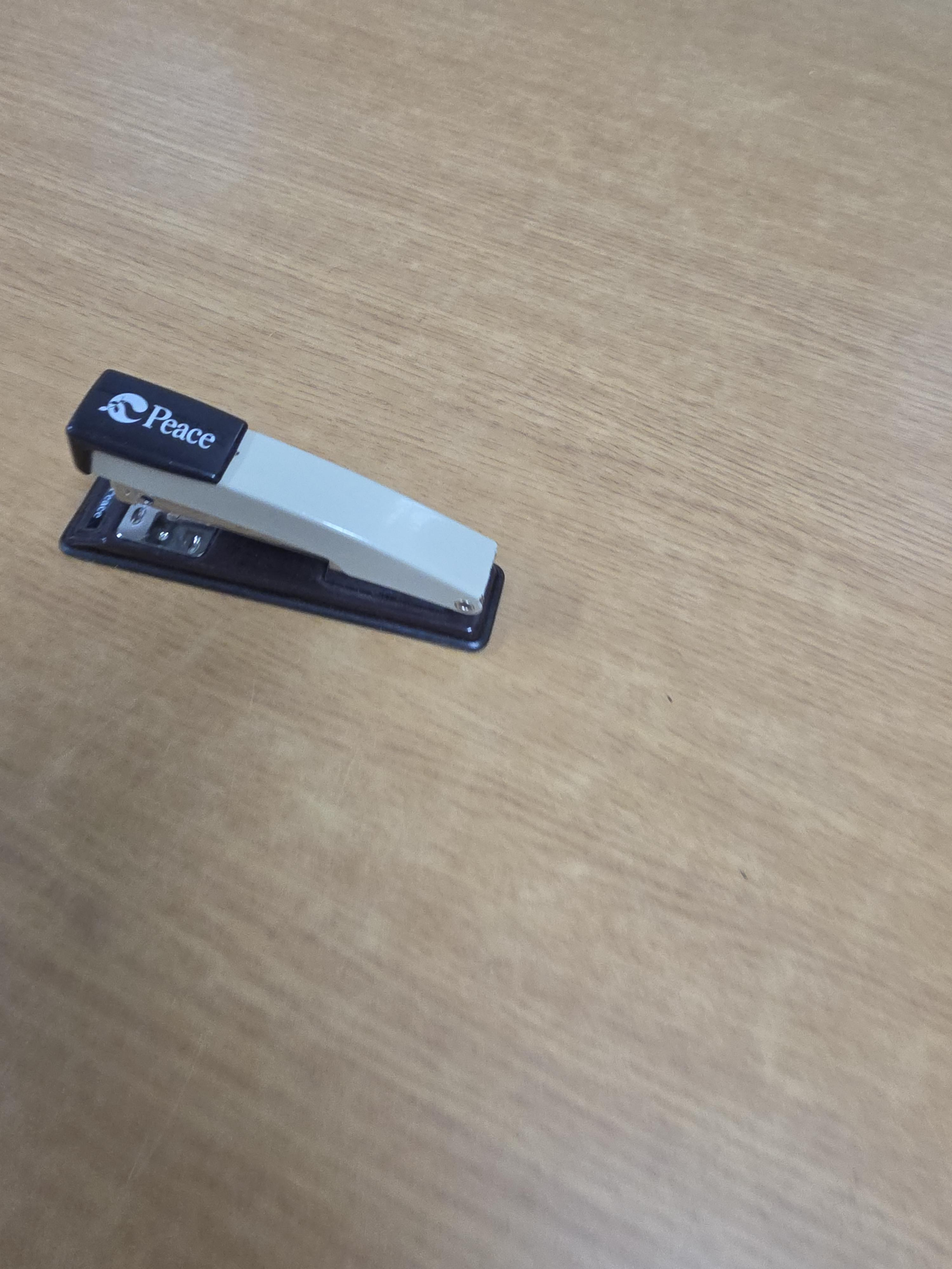stapler: (58, 367, 508, 653)
